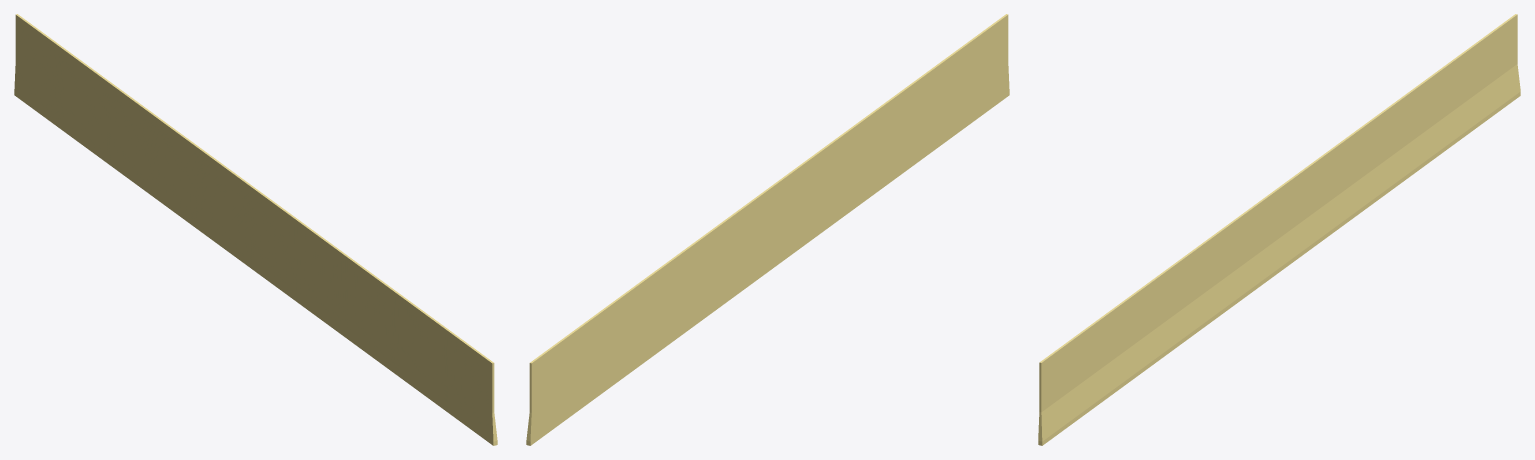
File: interior_school_room_south_03_invisible.fbx
3 views of the same model, side by side, from view 1: azimuth 30°, elevation 25°; view 2: azimuth 150°, elevation 25°; view 3: azimuth 330°, elevation 25° (orthographic).
Parts seen in each view (by area): view 1: Invisible Mesh; view 2: Invisible Mesh; view 3: Invisible Mesh.
Boxes of the visible parts, box(x1,y1,x2,y2) form: Invisible Mesh: box(14, 14, 497, 445); Invisible Mesh: box(526, 14, 1009, 445); Invisible Mesh: box(1038, 14, 1520, 445).
Bounding box in the file's own units: 20.01 × 380 × 4040.
